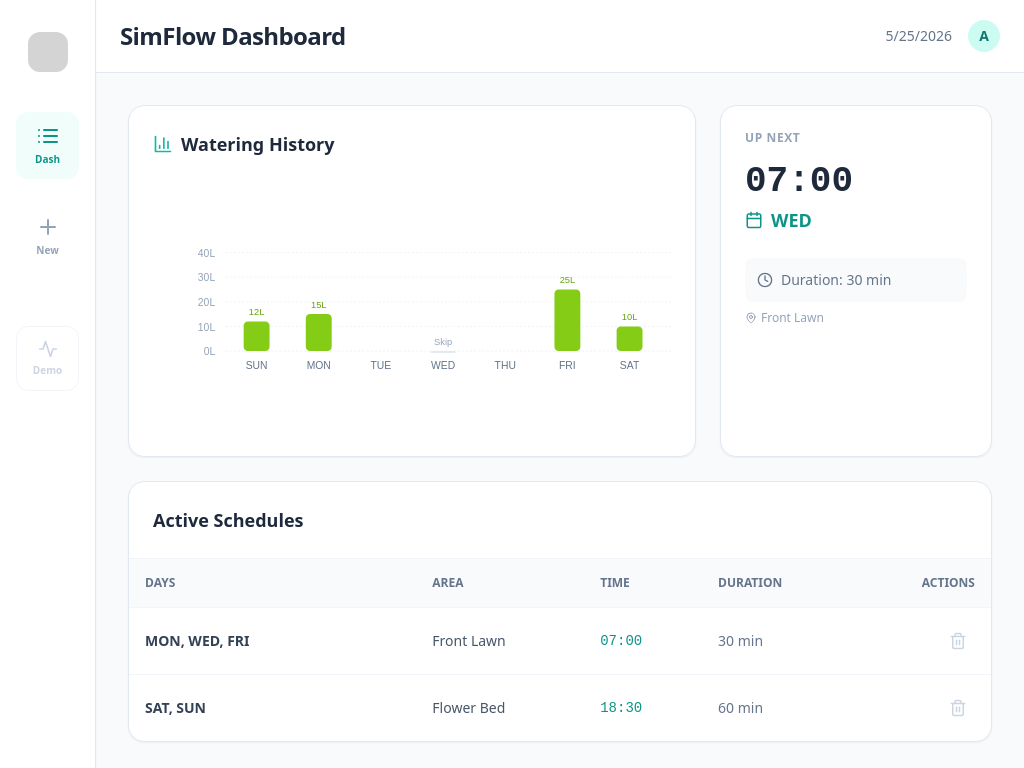
Test: AddForm › can change duration with slider
Click the button "New" at (48, 236), box [16,203,79,270]
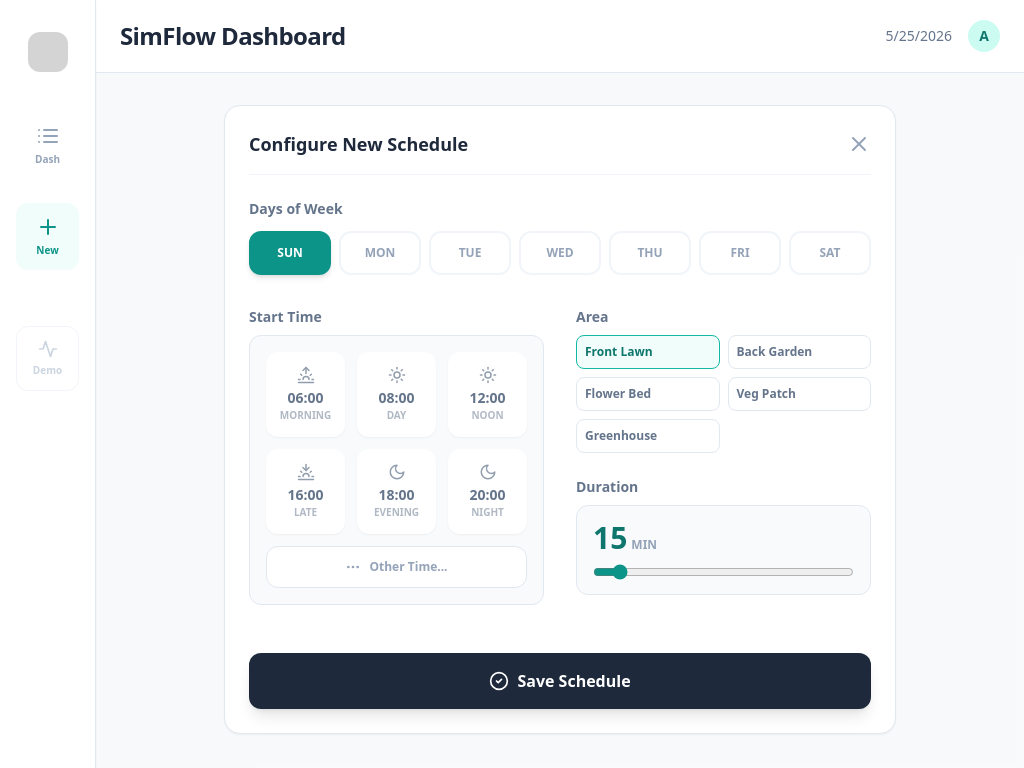
Set the slider to "45" at (661, 572), box [593,564,854,580]
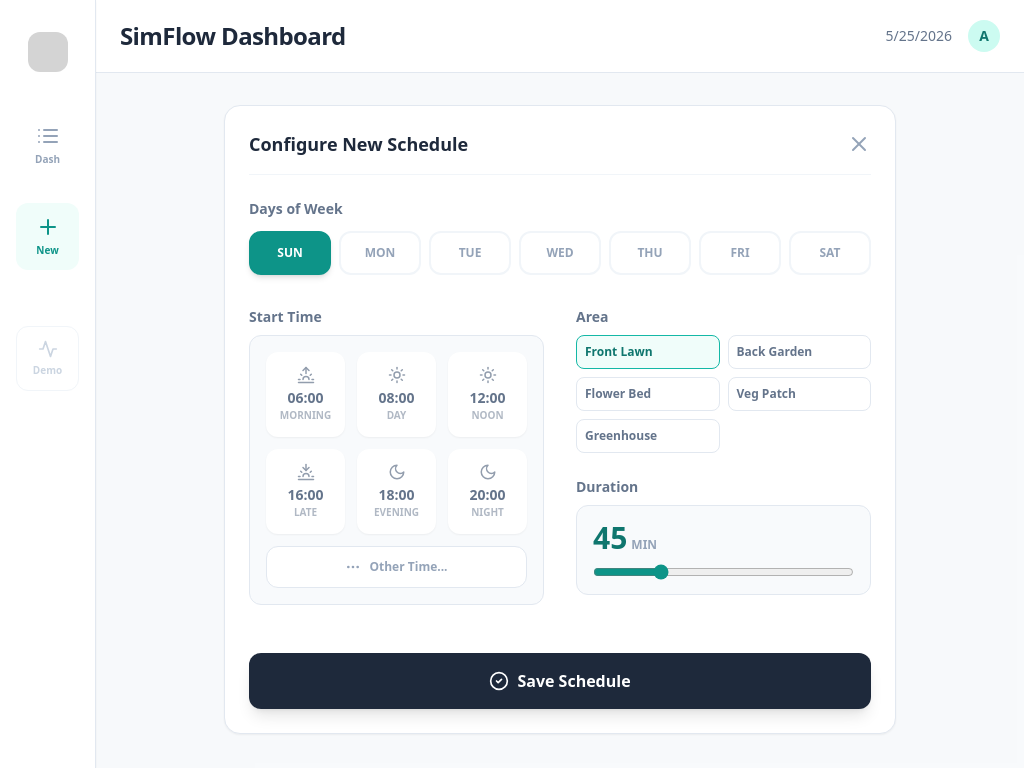
Expected: the text "45" is shown, [593,517,627,558]
